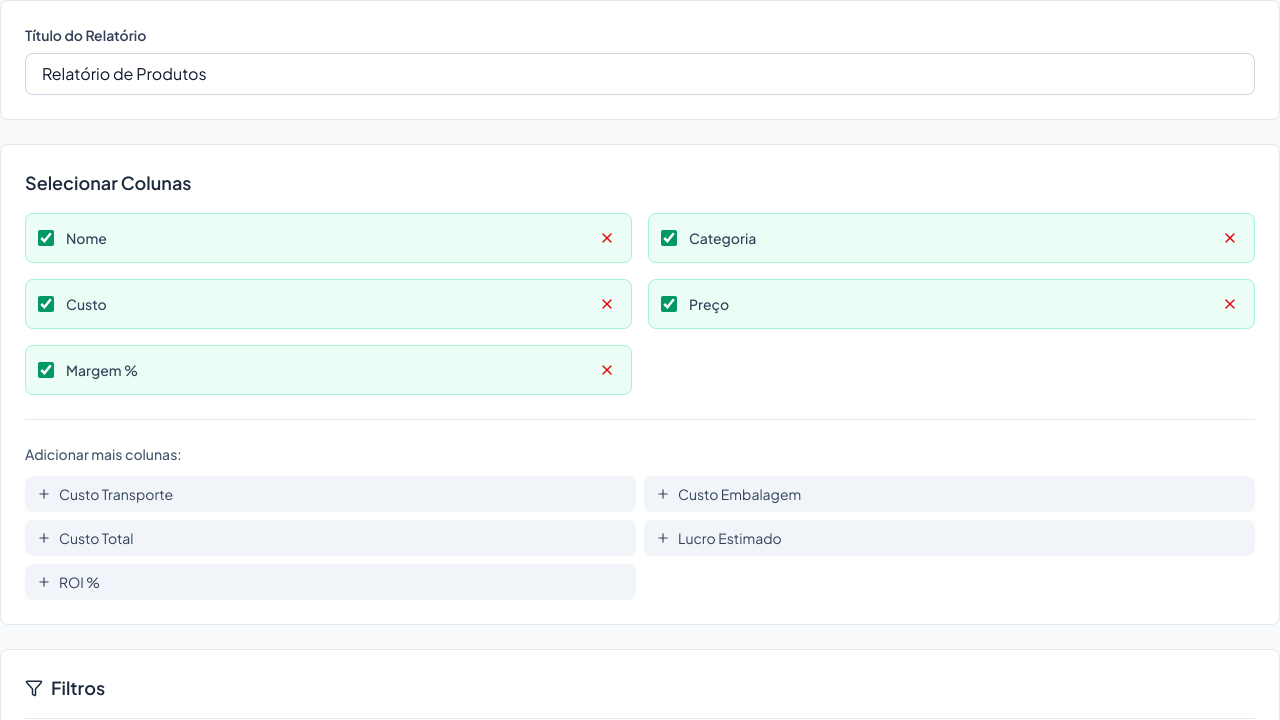
ReportBuilder › Generate Report Button › should disable button when no columns selected
The width and height of the screenshot is (1280, 720).
Click the checkbox labelled "Nome". click: x=46, y=238
box: [38,230,54,246]
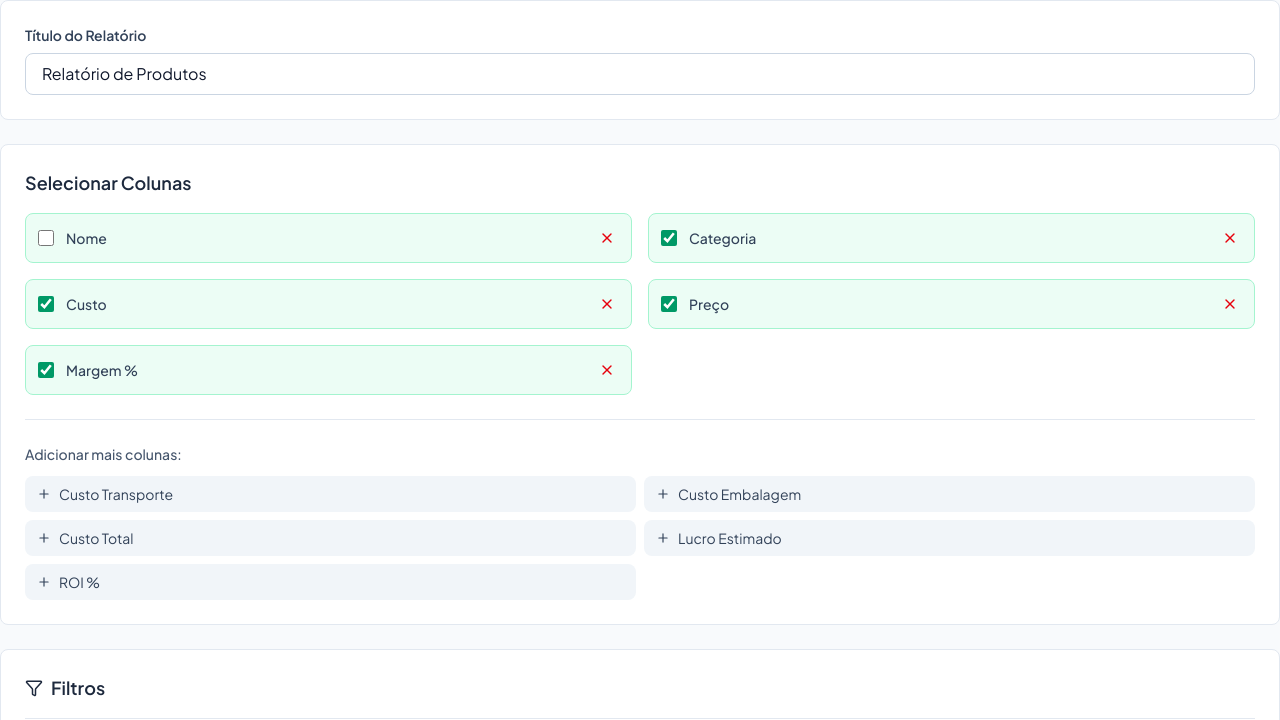
Click the checkbox labelled "Categoria". click: x=669, y=238
box: [661,230,677,246]
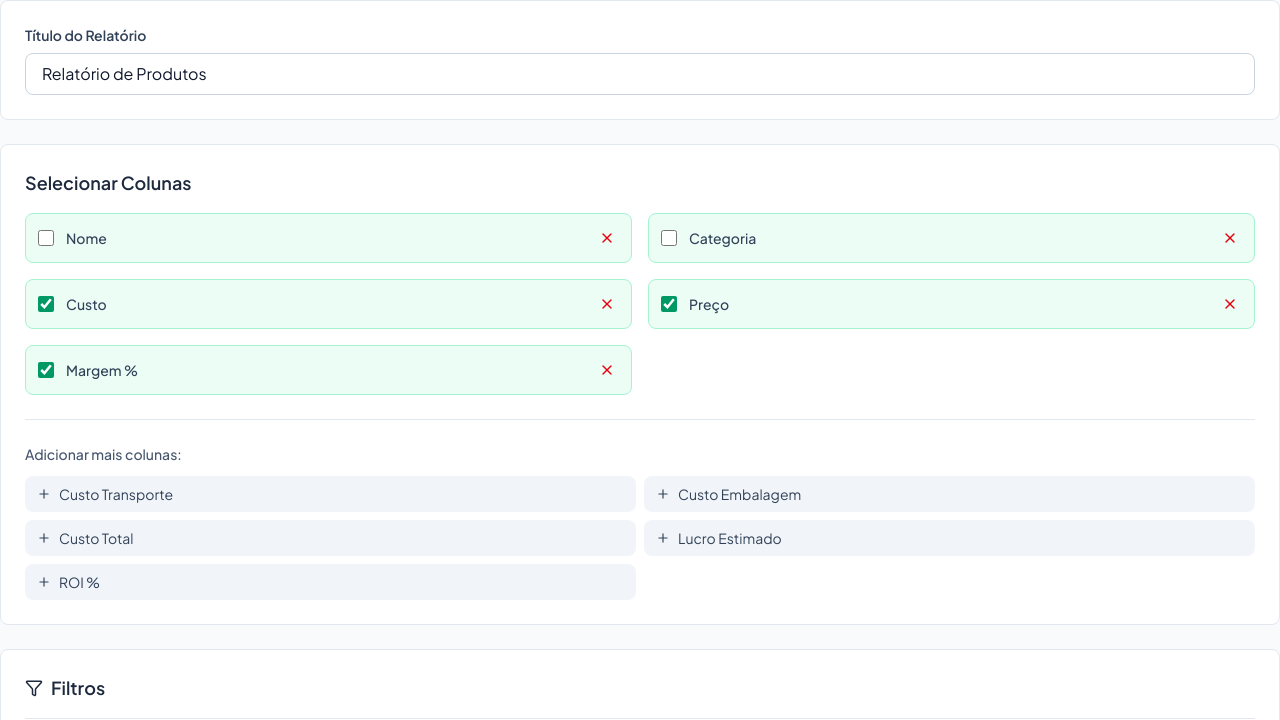
Click the checkbox labelled "Custo". click: x=46, y=304
box: [38,296,54,312]
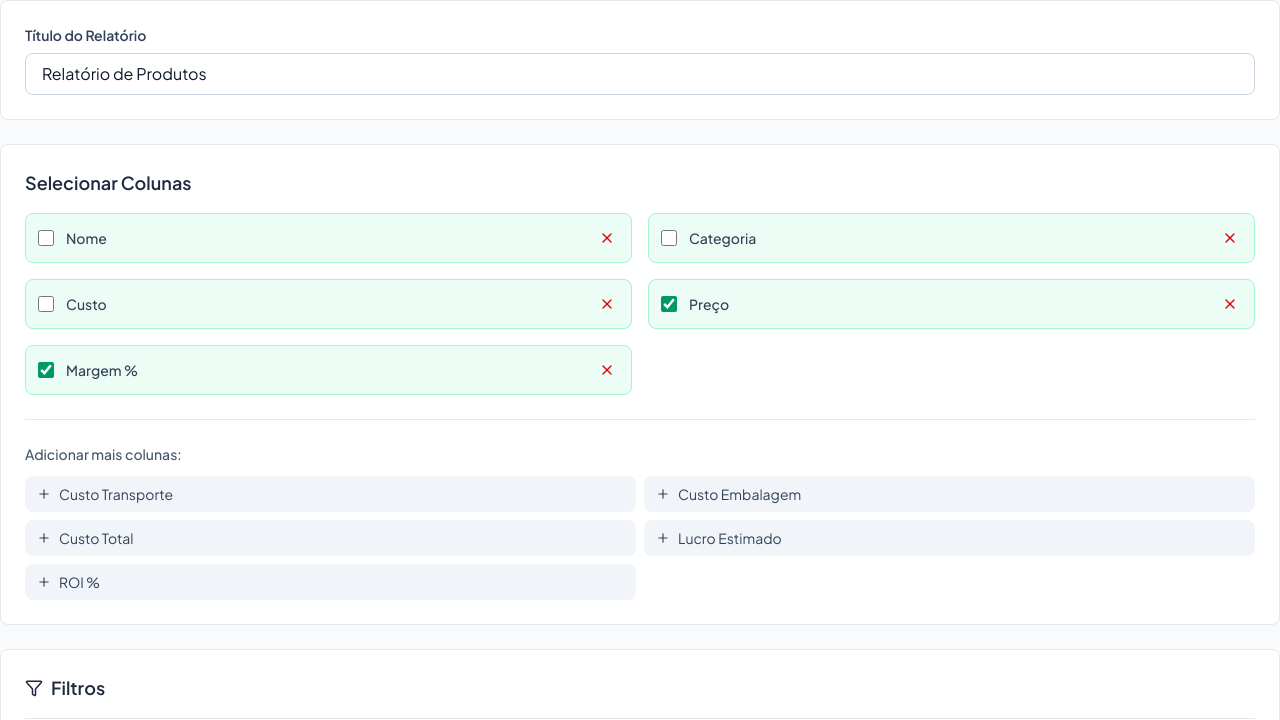
Click the checkbox labelled "Preço". click: x=669, y=304
box: [661,296,677,312]
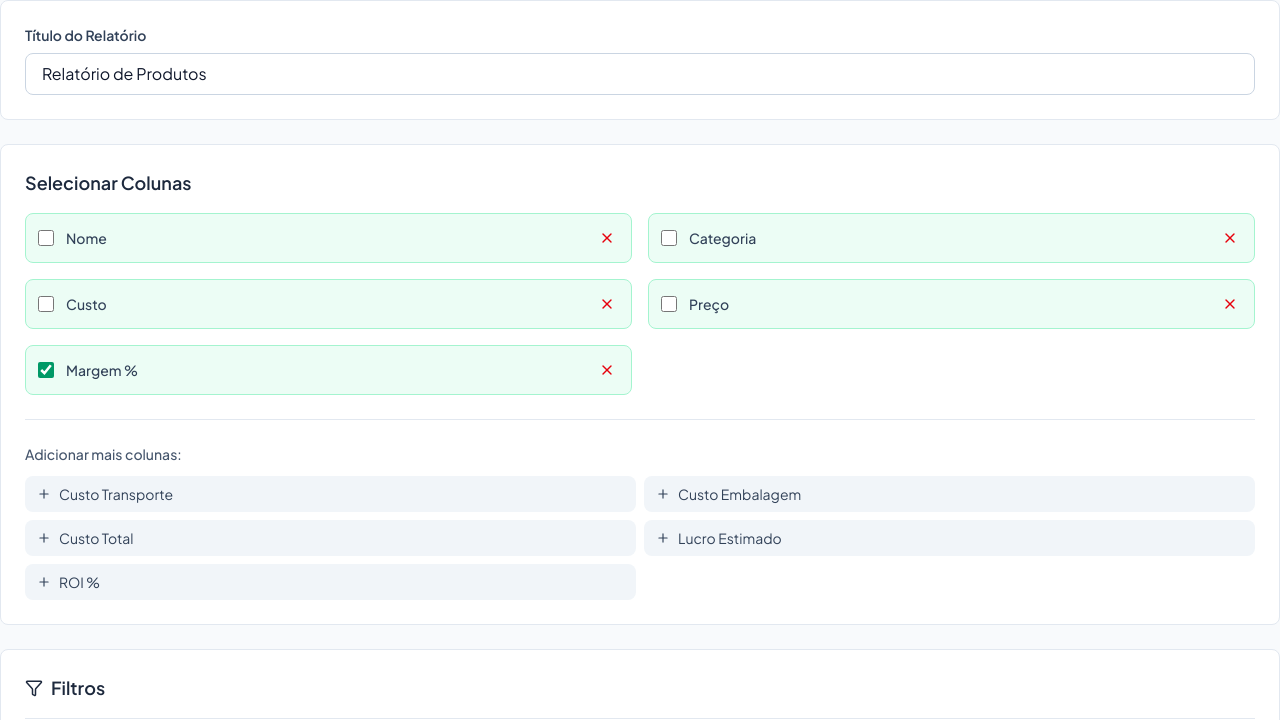
Click the checkbox labelled "Margem %". click: x=46, y=370
box: [38,362,54,378]
(page scrolled)
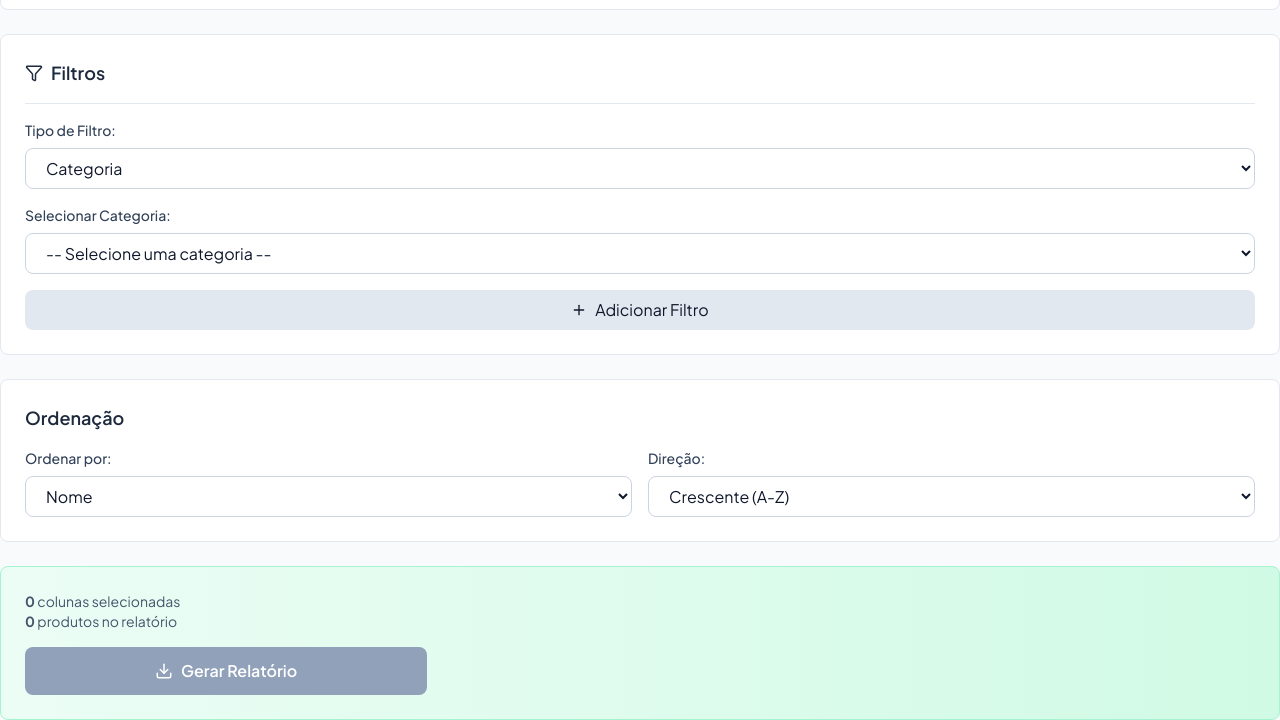
Expected: the button "Gerar Relatório" is disabled, [25,647,427,695]
